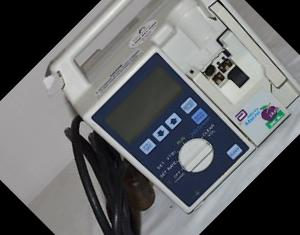plumxl1: (46, 4, 297, 205)
